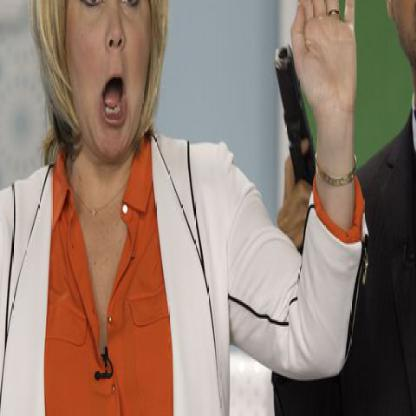gun: (268, 35, 330, 225)
